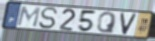2: (58, 8, 76, 32)
5: (76, 9, 99, 33)
M: (16, 6, 42, 29)
Q: (96, 11, 118, 34)
S: (38, 7, 59, 30)
V: (119, 12, 139, 36)
